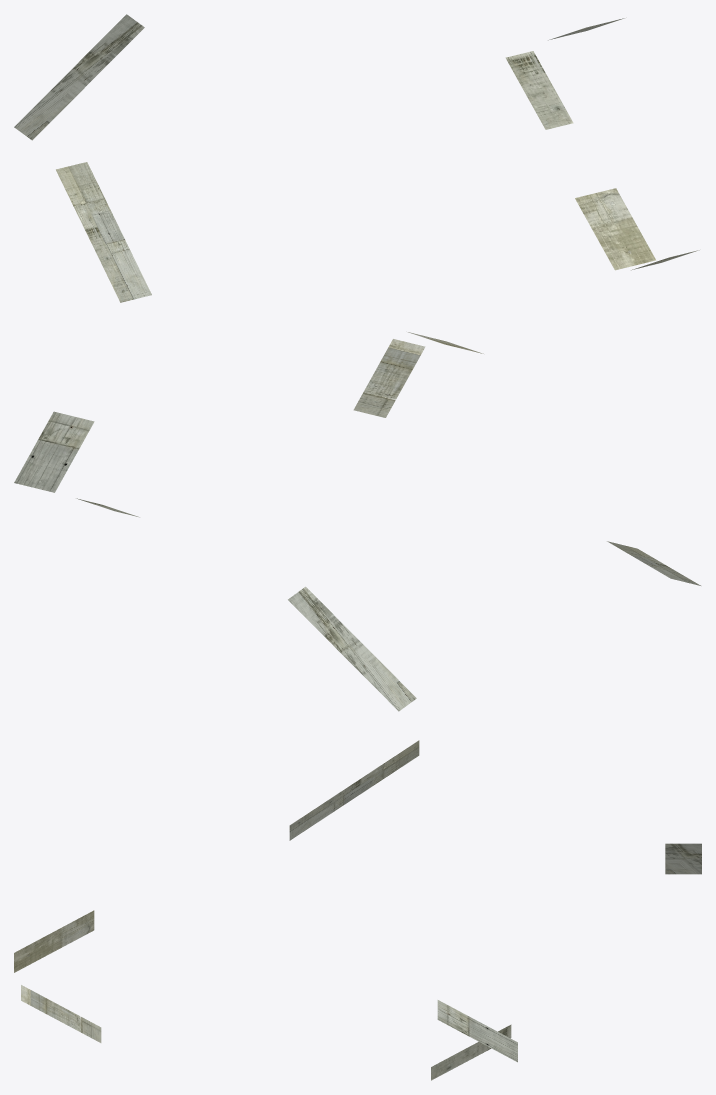
The model's file is SM_HK_03_04_col.fbx.
3 views of the same model, one above another, from view 1: azimuth 30°, elevation 25°; view 2: azimuth 150°, elevation 25°; view 3: azimuth 270°, elevation 25° (orthographic).
Visible parts, largest first — view 1: SM_HK_03_04_col; view 2: SM_HK_03_04_col; view 3: SM_HK_03_04_col.
Part boxes in pixels (x1,y1,x2,y2): SM_HK_03_04_col: (14,14,699,302); SM_HK_03_04_col: (14,332,700,711); SM_HK_03_04_col: (14,740,701,1080).
Size of the model in its own units: 4263 by 625 by 4374.
